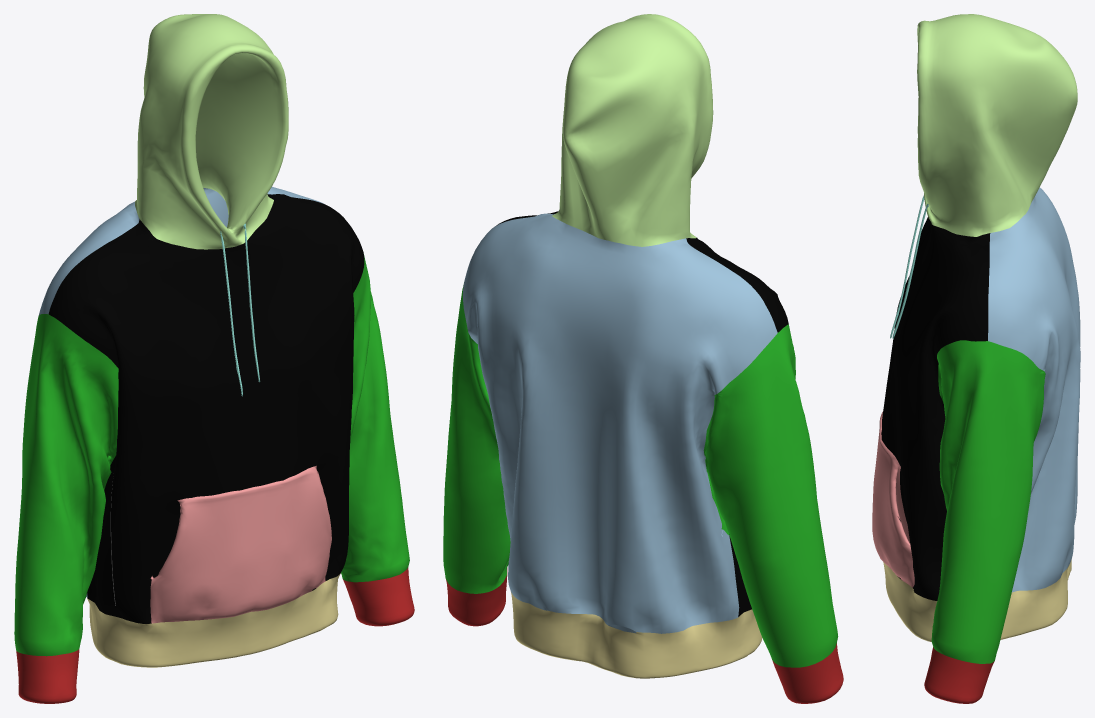
Rendered from Hoodie_Revision3.glb.
3 renders of one model, left to right at view 1: azimuth 30°, elevation 25°; view 2: azimuth 150°, elevation 25°; view 3: azimuth 270°, elevation 25°, orthographic. The views are drawn at different scales.
Visible parts, largest first — view 1: Group44853, Group43482, Group18032, Group36658, Object001, Group12817, Group64703, Group32806, Object002, Group65254; view 2: Group32806, Group43482, Group18032, Object001, Object003, Group64703, Group44853, Object002, Group12817; view 3: Group43482, Object001, Group32806, Group44853, Group36658, Object003, Object002, Group12817, Group65254.
Boxes of the visible parts, box(x1,y1,x2,y2) form: Group44853: box(48, 194, 364, 623); Group43482: box(135, 14, 288, 249); Group18032: box(14, 314, 118, 656); Group36658: box(150, 465, 331, 623); Object001: box(341, 255, 409, 582); Group12817: box(95, 573, 340, 667); Group64703: box(16, 649, 79, 703); Group32806: box(38, 187, 324, 597); Object002: box(343, 567, 414, 626); Group65254: box(220, 223, 260, 396); Group32806: box(463, 213, 777, 633); Group43482: box(552, 14, 713, 246); Group18032: box(703, 324, 838, 667); Object001: box(443, 285, 510, 593); Object003: box(511, 592, 744, 678); Group64703: box(772, 643, 843, 703); Group44853: box(496, 211, 788, 616); Object002: box(446, 568, 507, 626); Group12817: box(743, 609, 762, 657); Group43482: box(917, 14, 1077, 236); Object001: box(931, 340, 1045, 663); Group32806: box(988, 187, 1080, 592); Group44853: box(881, 217, 990, 600); Group36658: box(872, 411, 914, 587); Object003: box(1000, 560, 1071, 639); Object002: box(924, 647, 994, 703); Group12817: box(883, 562, 937, 641); Group65254: box(890, 195, 928, 338).
Bounding box in the file's own units: 22 × 34.53 × 10.81.
